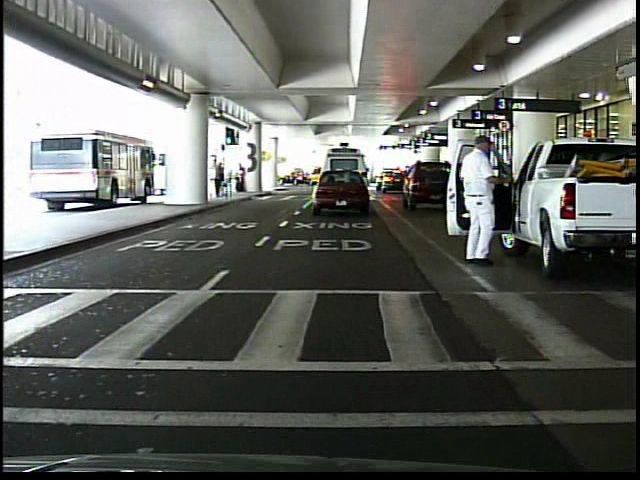person: (457, 131, 509, 264), (211, 155, 225, 201), (233, 163, 249, 197)
